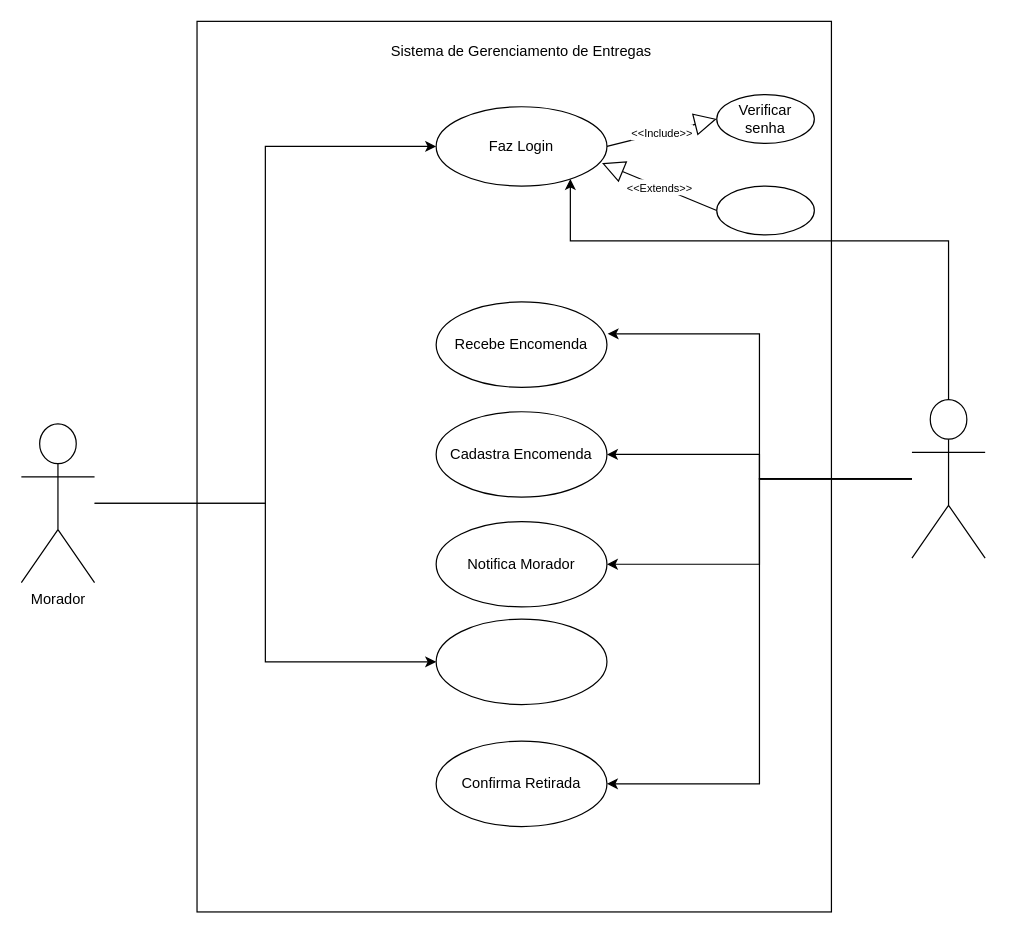
Some shapes in this 1015 by 933 pixel diagram are drawn without their labels. Each missing label, with the centre of its shape:
"Administrador" belongs at point (948, 478).
"Exibe erro de login" belongs at point (765, 210).
"Retira Encomenda" belongs at point (521, 661).
